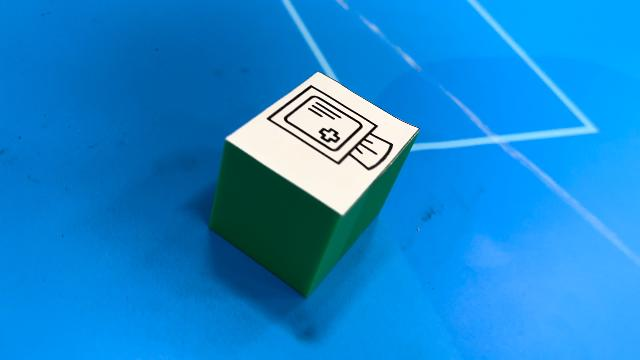napkin: (207, 70, 421, 298)
